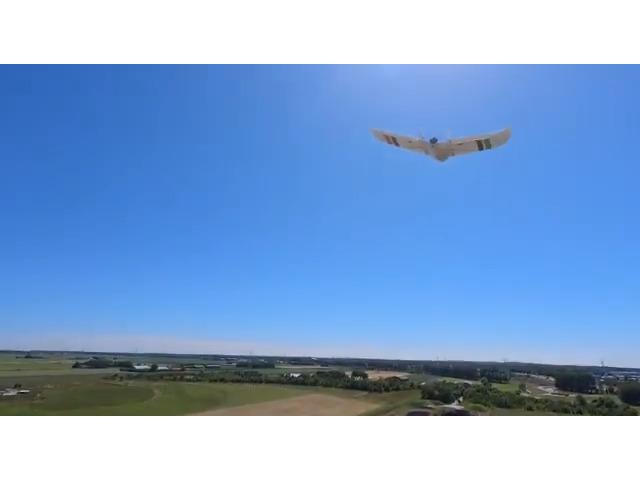Anti-Drone: (355, 112, 525, 176)
